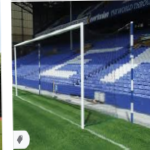goals: (13, 20, 117, 130)
